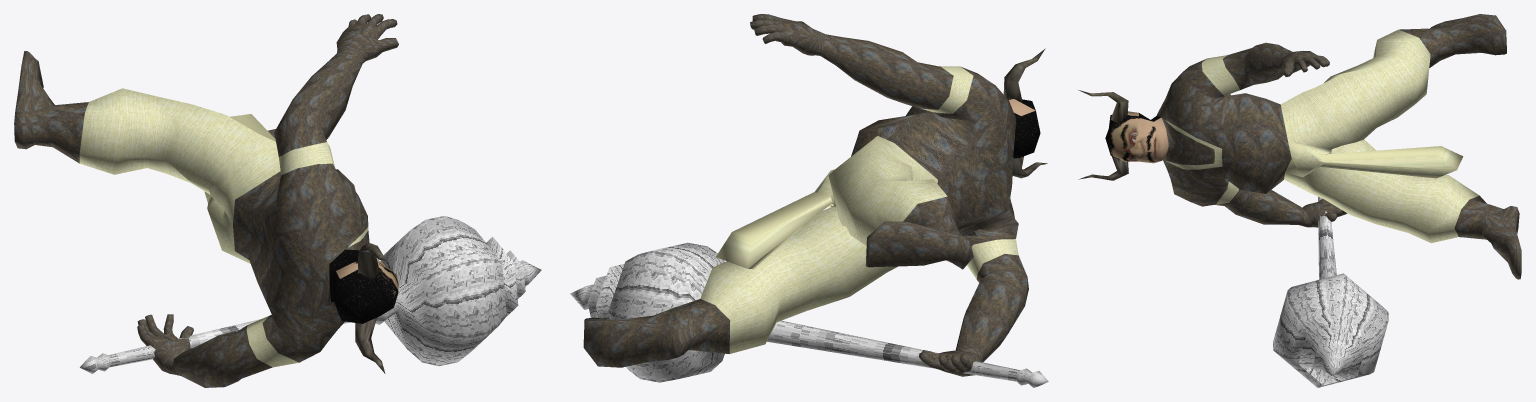
The model's file is kumbha_000111.obj.
The picture shows the model from 3 angles, left to right: view 1: azimuth 30°, elevation 25°; view 2: azimuth 150°, elevation 25°; view 3: azimuth 270°, elevation 25°; orthographic projection. The views are drawn at different scales.
Parts seen in each view (by area): view 1: body_Circle, Cylinder; view 2: body_Circle, Cylinder; view 3: body_Circle, Cylinder.
Part boxes in pixels (x1,y1,x2,y2): body_Circle: [14, 14, 398, 387]; Cylinder: [80, 216, 541, 373]; body_Circle: [583, 14, 1047, 376]; Cylinder: [570, 242, 1048, 387]; body_Circle: [1078, 14, 1521, 279]; Cylinder: [1273, 197, 1388, 387].
Size of the model in its own units: 2.89 by 2.17 by 2.96.
